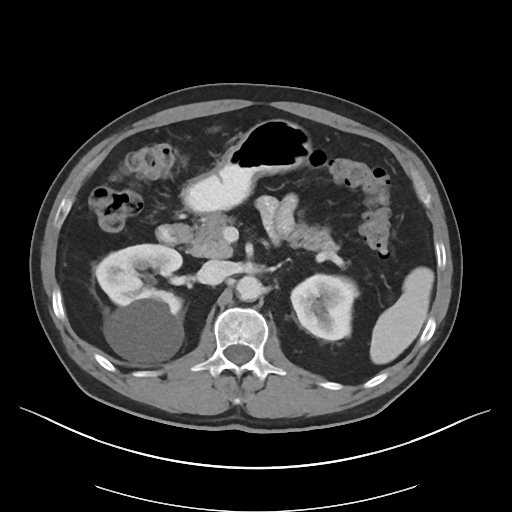Lesion: (97, 294, 187, 366)
